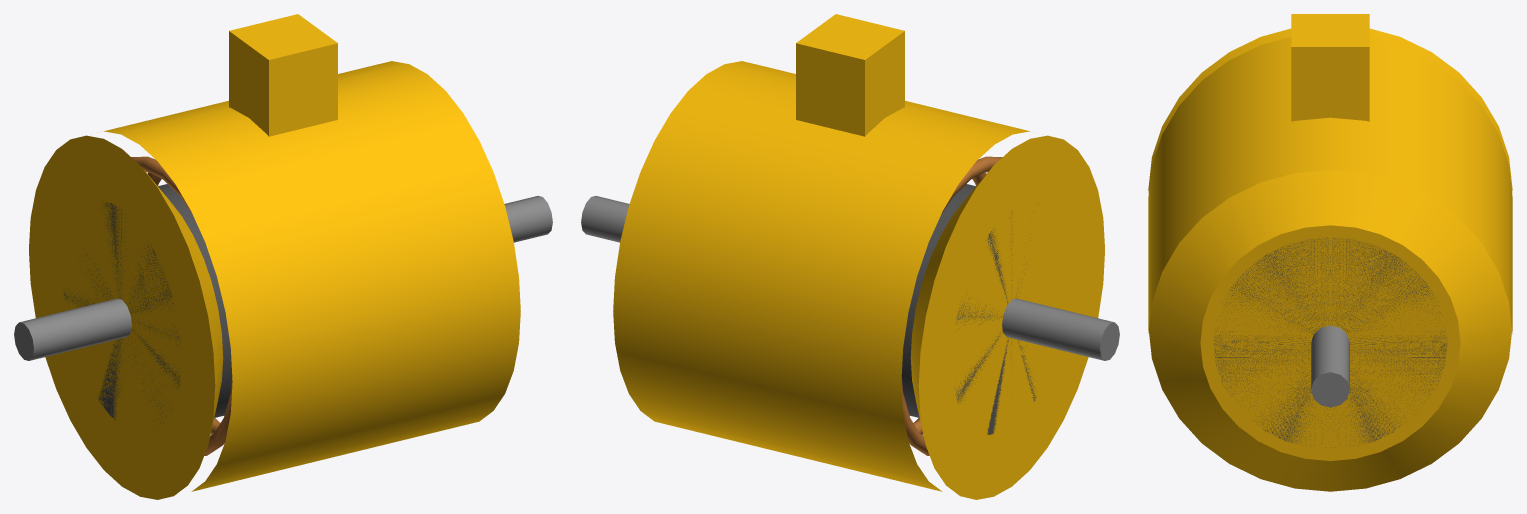
Rendered from generator.glb.
3 views of the same model, side by side, from view 1: azimuth 30°, elevation 25°; view 2: azimuth 150°, elevation 25°; view 3: azimuth 270°, elevation 25° (orthographic). The views are drawn at different scales.
Size of the model in its own units: 4.5 by 3.4 by 2.8.
